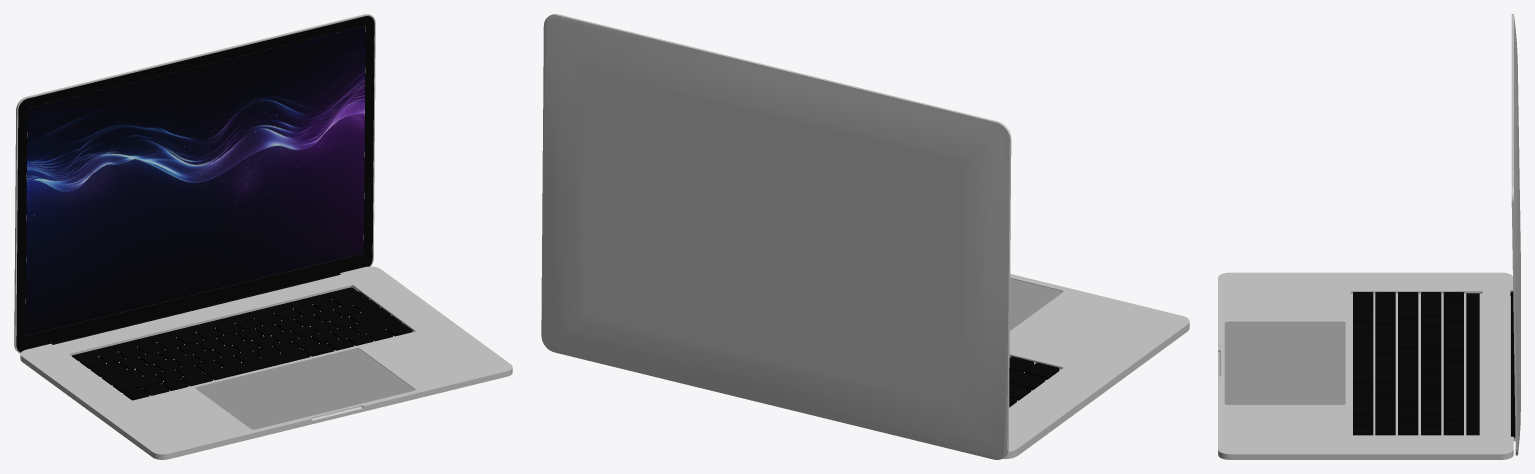
The model's file is mac2.glb.
The picture shows the model from 3 angles, left to right: view 1: azimuth 30°, elevation 25°; view 2: azimuth 150°, elevation 25°; view 3: azimuth 270°, elevation 25°; orthographic projection. The views are drawn at different scales.
Parts seen in each view (by area): view 1: screen, base, keyboard, touchbar; view 2: screen, base, keyboard; view 3: base, keyboard, screen, touchbar.
Part boxes in pixels (x1,y1,x2,y2): screen: (14, 14, 375, 353); base: (20, 266, 512, 459); keyboard: (79, 291, 412, 400); touchbar: (72, 287, 358, 360); screen: (541, 14, 1011, 459); base: (1002, 274, 1189, 458); keyboard: (1009, 356, 1059, 407); base: (1218, 272, 1513, 459); keyboard: (1353, 292, 1463, 435); screen: (1510, 14, 1520, 455); touchbar: (1466, 293, 1479, 435).
Size of the model in its own units: 8.81 by 6.16 by 6.2.
Materials: 6 (1 with a texture image).
